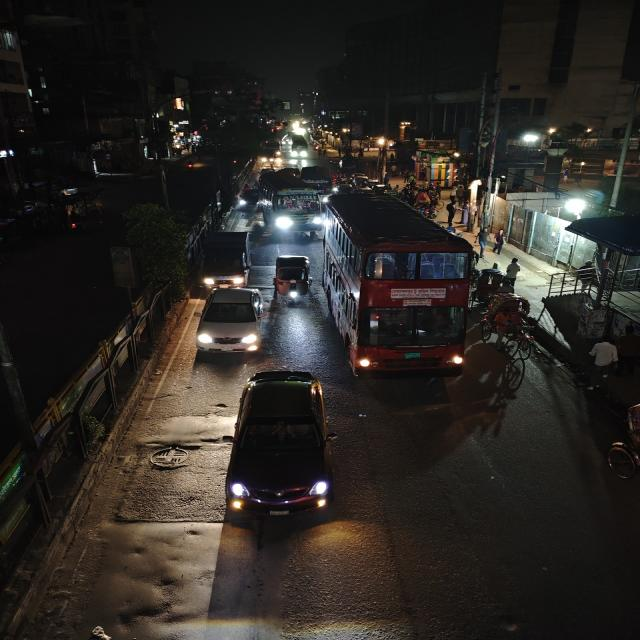bus: (324, 191, 476, 379), (563, 211, 640, 350), (257, 172, 325, 240)
car: (227, 367, 336, 529), (194, 285, 265, 355), (235, 184, 262, 209)
cng: (272, 252, 312, 306)
pedestrian: (588, 336, 620, 388), (619, 326, 640, 379), (503, 257, 524, 287), (491, 227, 510, 255), (473, 228, 490, 258), (444, 200, 459, 224)
rickshaw: (479, 294, 533, 348)
truck: (198, 229, 254, 289)
